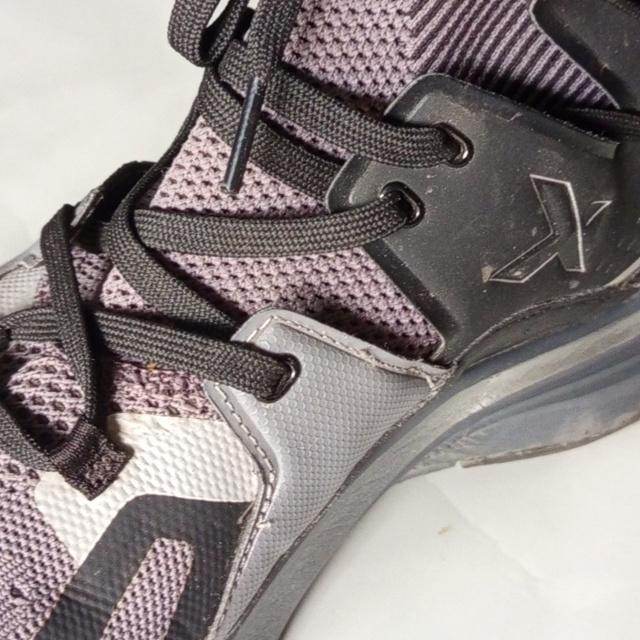broken-error: (358, 346, 385, 368)
